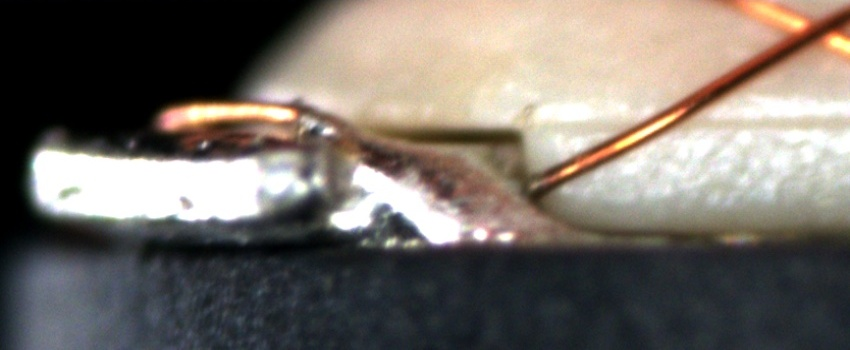CL: (766, 5, 847, 58)
DL: (549, 92, 850, 158)
TE: (157, 93, 354, 141)
